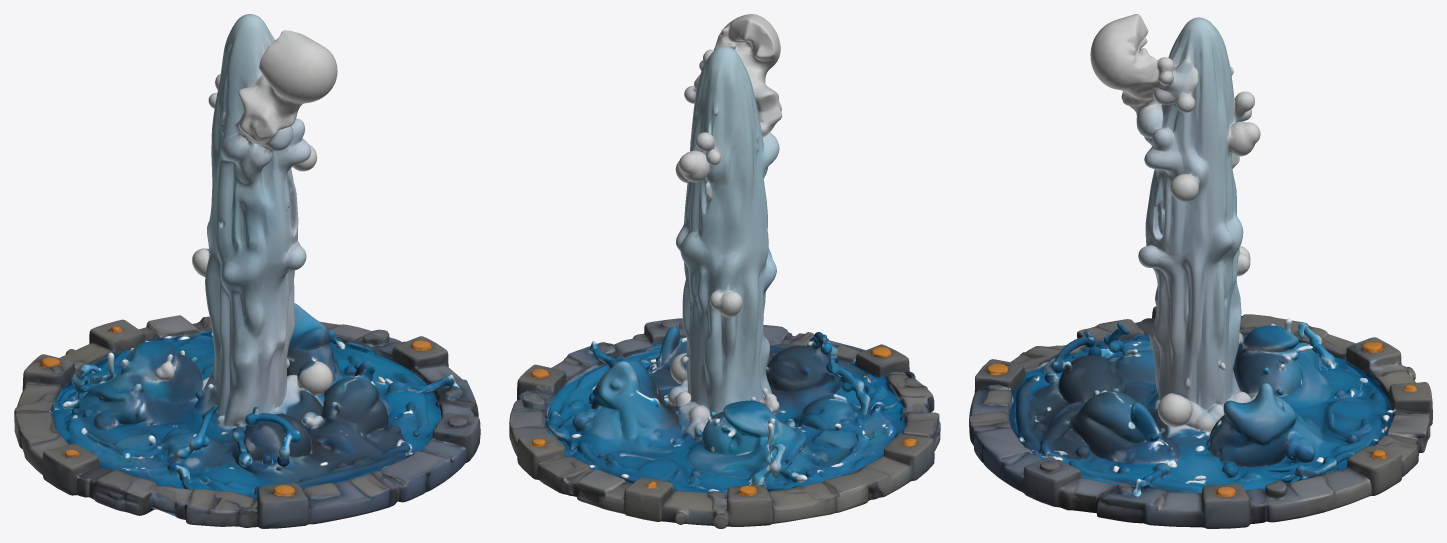
File: nature-geyser.glb
3 renders of one model, left to right at view 1: azimuth 30°, elevation 25°; view 2: azimuth 150°, elevation 25°; view 3: azimuth 270°, elevation 25°, orthographic. The views are drawn at different scales.
Parts seen in each view (by area): view 1: tripo_node_88dab710-5b13-4f33-92cc-29e2fe0293e7; view 2: tripo_node_88dab710-5b13-4f33-92cc-29e2fe0293e7; view 3: tripo_node_88dab710-5b13-4f33-92cc-29e2fe0293e7.
Boxes of the visible parts, x1,y1,x2,y2 form: tripo_node_88dab710-5b13-4f33-92cc-29e2fe0293e7: [14, 14, 480, 528]; tripo_node_88dab710-5b13-4f33-92cc-29e2fe0293e7: [509, 14, 940, 528]; tripo_node_88dab710-5b13-4f33-92cc-29e2fe0293e7: [969, 14, 1432, 528].
Bounding box in the file's own units: 4.47 × 5 × 4.41.
Materials: 1 (1 with a texture image).
